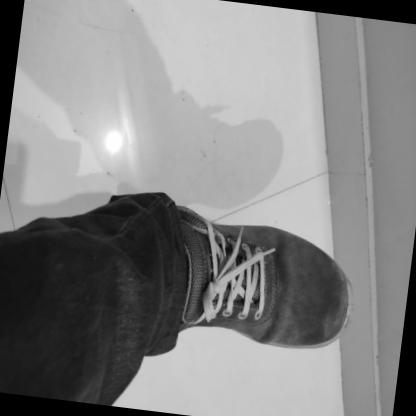ankle: (191, 269, 195, 273)
heel: (179, 216, 184, 221)
pinky: (322, 258, 325, 262)
right_foot: (140, 203, 364, 356)
toe: (329, 332, 334, 337)
